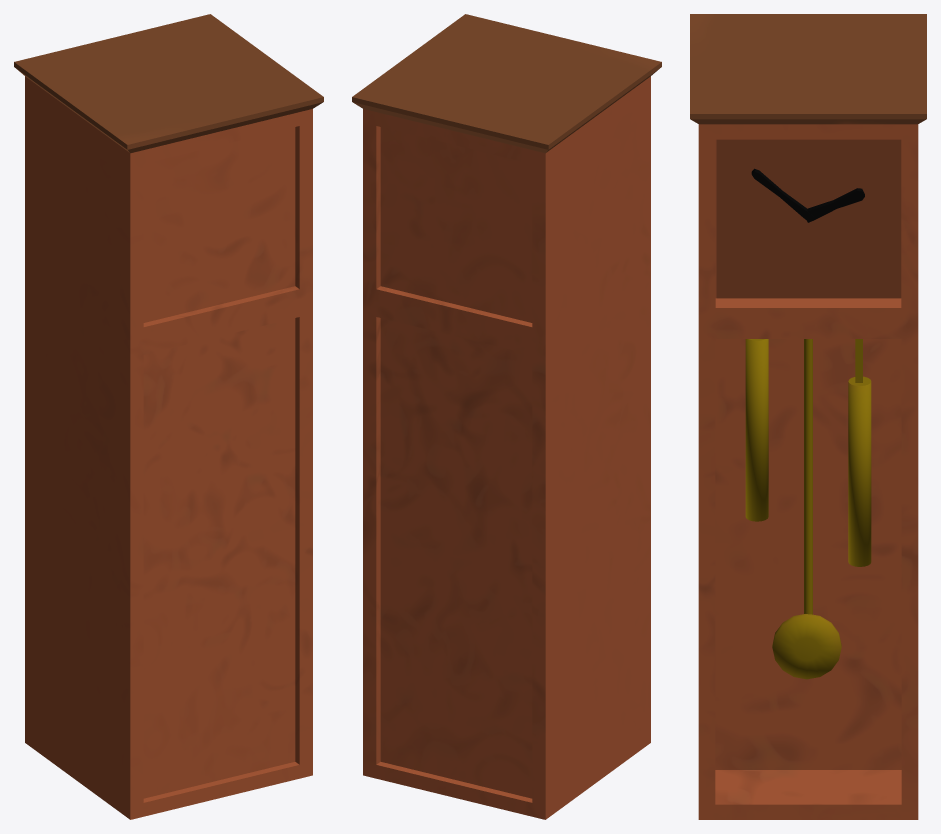
File: Grandfather Clock.fbx
The picture shows the model from 3 angles, left to right: view 1: azimuth 30°, elevation 25°; view 2: azimuth 150°, elevation 25°; view 3: azimuth 270°, elevation 25°; orthographic projection. The views are drawn at different scales.
Parts seen in each view (by area): view 1: Cube; view 2: Cube; view 3: Cube.
Part boxes in pixels (box(x1,y1,x2,y2)): Cube: box(14, 14, 323, 819); Cube: box(352, 14, 661, 819); Cube: box(690, 14, 926, 819).
Size of the model in its own units: 61.71 by 204 by 61.71.
1 material, 1 textured.
